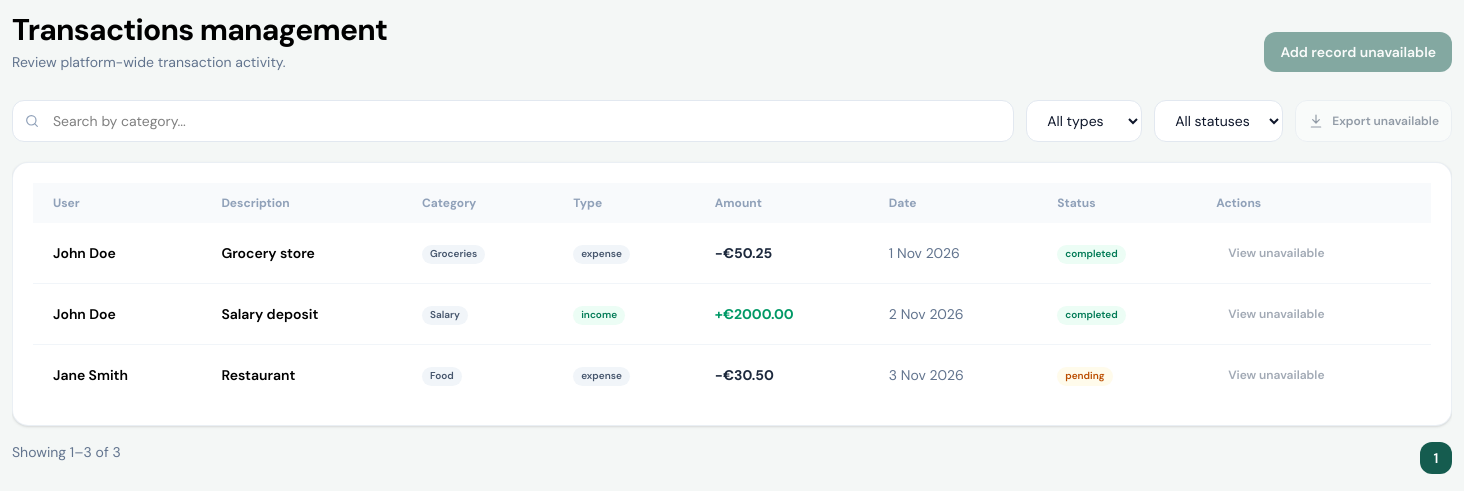
Scenario: AdminTransactions › filters transactions by status
expect the text "Grocery store" is shown: met, box [201, 223, 402, 284]
Select "Pending" in the dropdown named "Filter by transaction status" at point(1219, 121), box [1154, 100, 1283, 142]
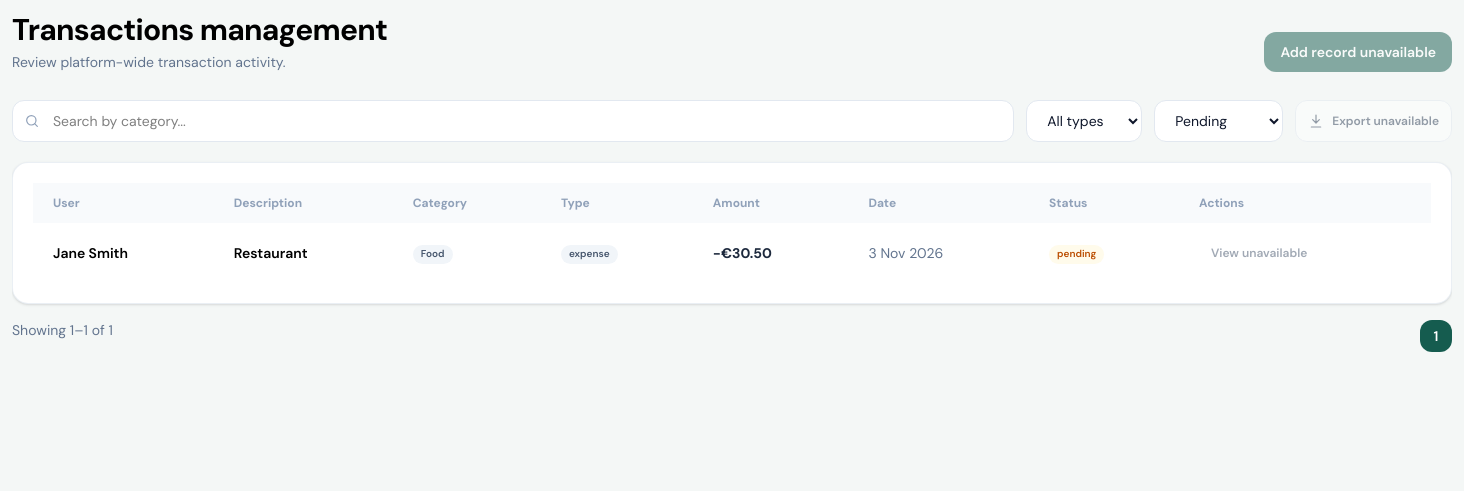
expect the text "Restaurant" is shown: met, box [214, 223, 393, 283]
expect the text "Grocery store" is gone: met
